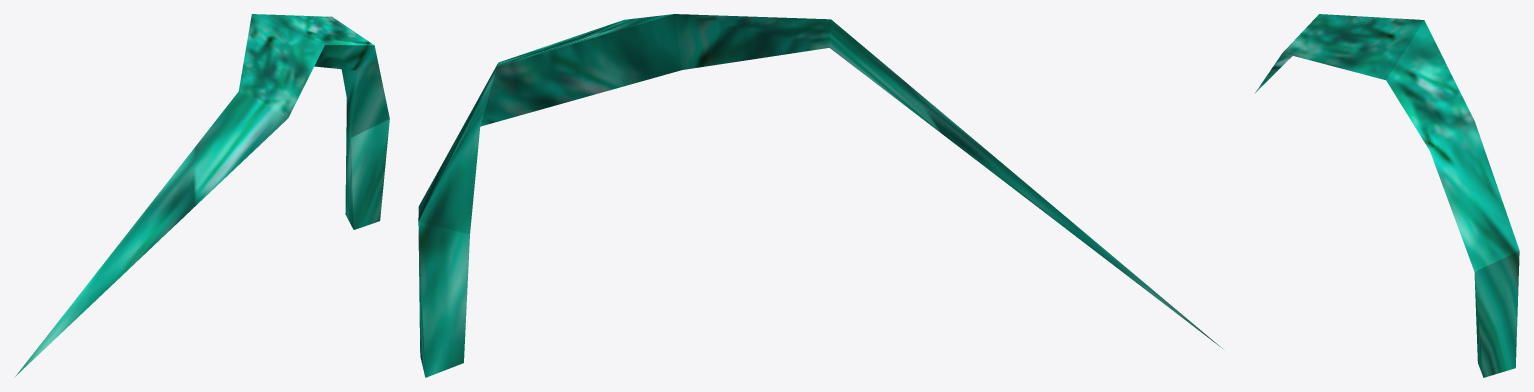
The model's file is H1_BluePlant_Branch_5.gltf.
3 views of the same model, side by side, from view 1: azimuth 30°, elevation 25°; view 2: azimuth 150°, elevation 25°; view 3: azimuth 270°, elevation 25° (orthographic). The views are drawn at different scales.
Visible parts, largest first — view 1: H1_BluePlant_Branch_5; view 2: H1_BluePlant_Branch_5; view 3: H1_BluePlant_Branch_5.
Boxes of the visible parts, bbox=[...] form: H1_BluePlant_Branch_5: bbox=[14, 14, 389, 377]; H1_BluePlant_Branch_5: bbox=[418, 14, 1222, 377]; H1_BluePlant_Branch_5: bbox=[1255, 14, 1519, 377].
Size of the model in its own units: 6.7 by 3.54 by 3.06.
1 material, 1 textured.
